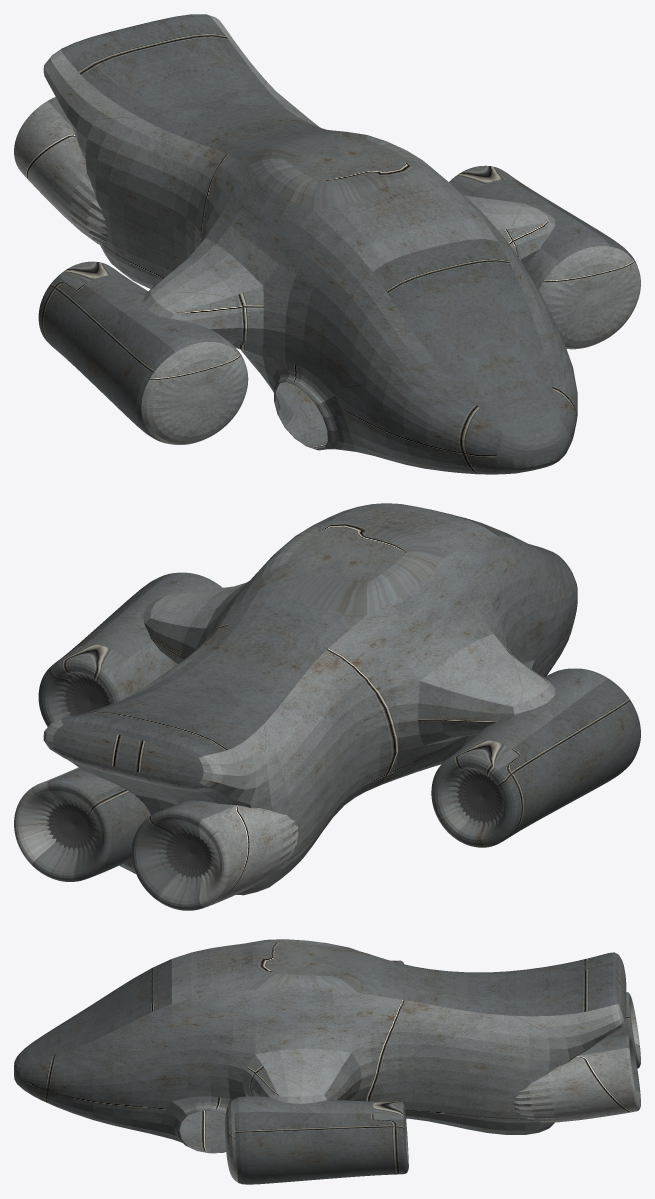
The model's file is spaceship_v0.glb.
The picture shows the model from 3 angles, top to bottom: view 1: azimuth 30°, elevation 25°; view 2: azimuth 150°, elevation 25°; view 3: azimuth 270°, elevation 25°; orthographic projection. The views are drawn at different scales.
Parts seen in each view (by area): view 1: Cube; view 2: Cube; view 3: Cube.
Part boxes in pixels (left/top/right/bottom): Cube: left=14, top=14, right=640, bottom=474; Cube: left=14, top=503, right=640, bottom=910; Cube: left=14, top=939, right=640, bottom=1184.
Size of the model in its own units: 1.55 by 0.646 by 2.27.
3 materials, 1 textured.
